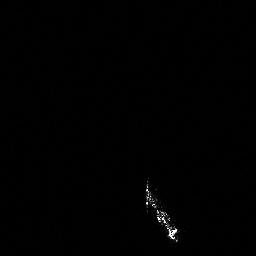ship: (142, 172, 183, 246)
